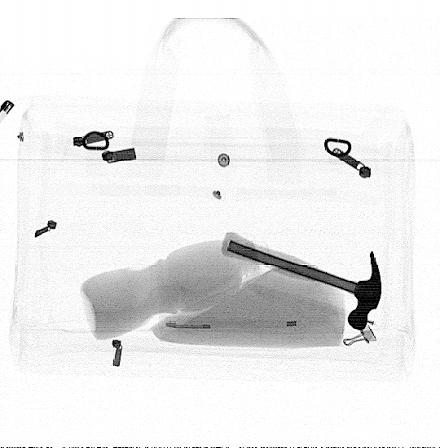Hammer: (221, 231, 383, 331)
